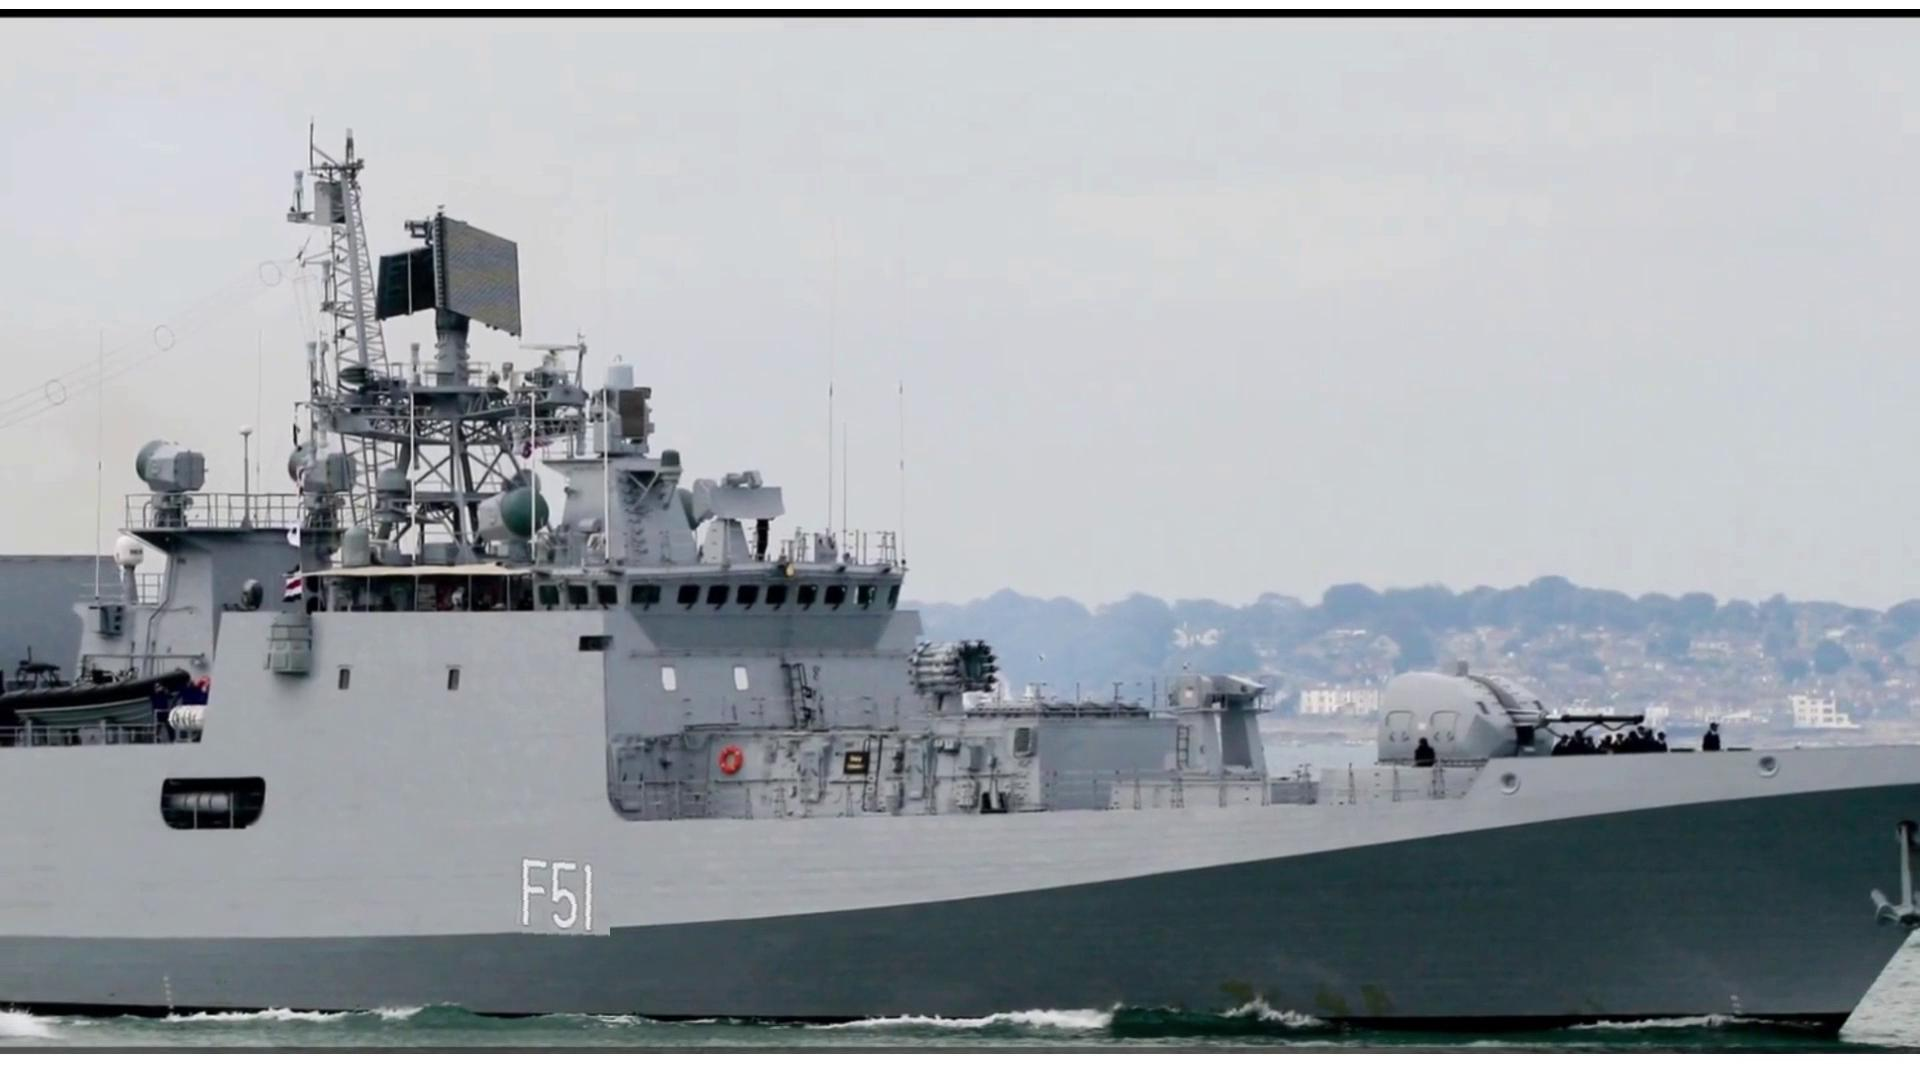OCR: (509, 848, 611, 938)
